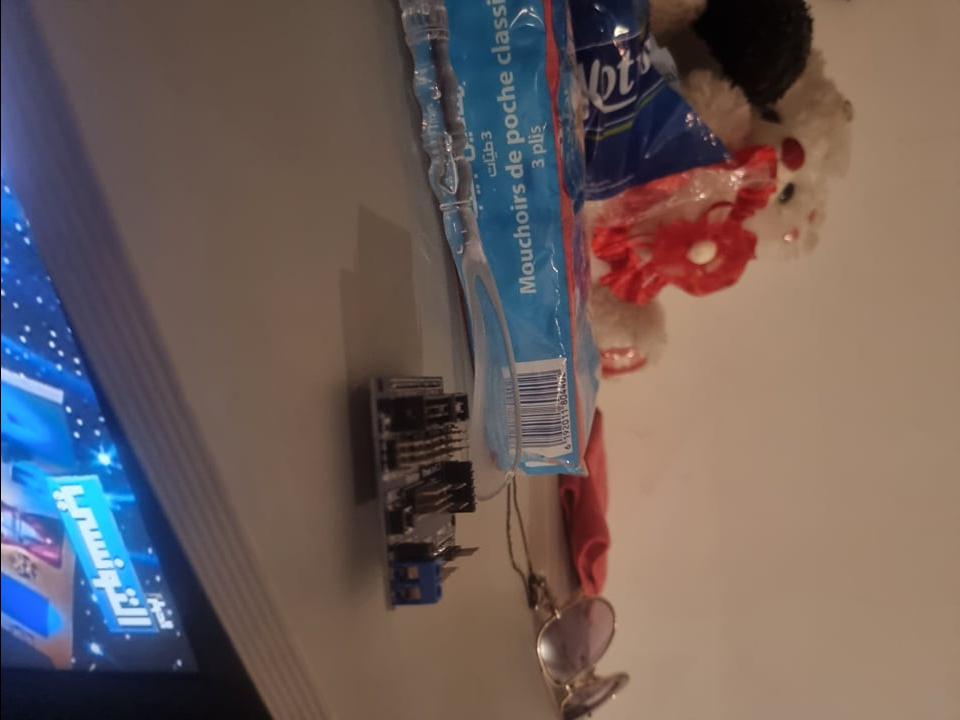5V EXPANSION: (342, 370, 485, 618)
